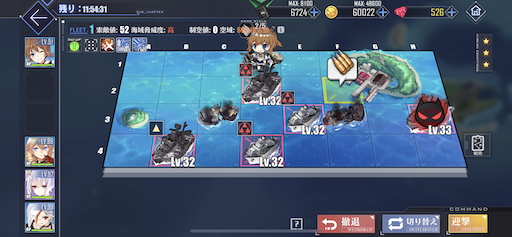boss: (406, 96, 452, 134)
lv1: (148, 121, 195, 167)
lv3: (238, 120, 284, 166), (280, 89, 325, 135), (239, 61, 281, 104)
